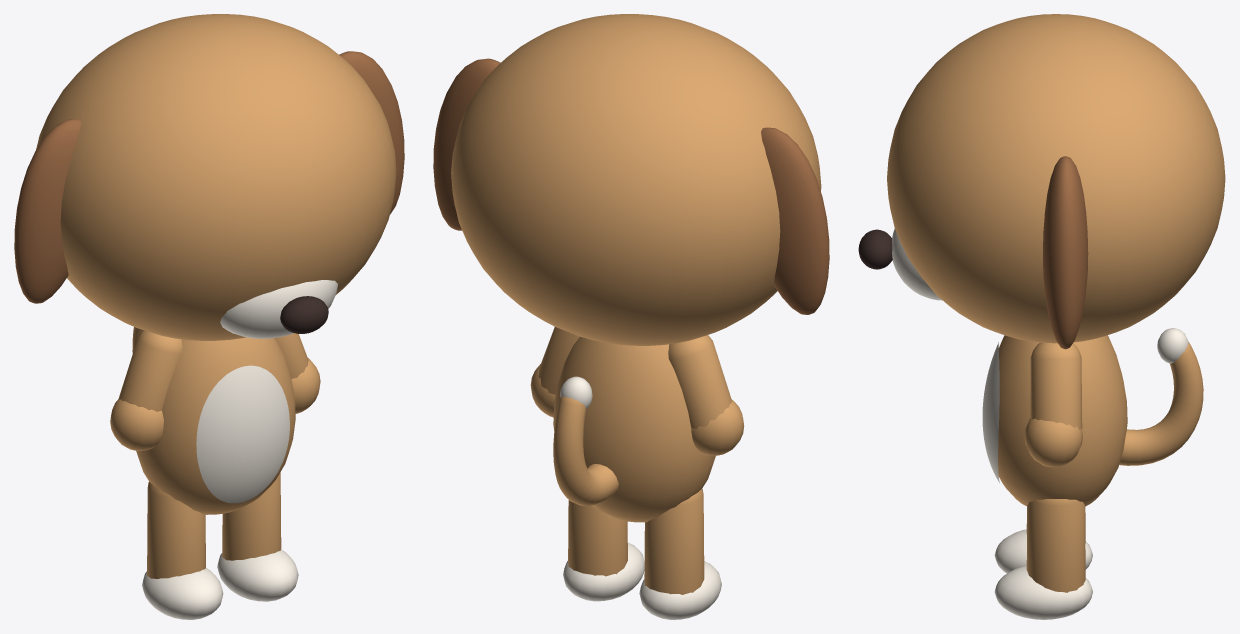
Rendered from animal-dog.glb.
3 renders of one model, left to right at view 1: azimuth 30°, elevation 25°; view 2: azimuth 150°, elevation 25°; view 3: azimuth 270°, elevation 25°, orthographic. The views are drawn at different scales.
Parts seen in each view (by area): view 1: head, torso, belly, ear_R, leg_R, leg_L, arm_R, muzzle, foot_L, foot_R, ear_L, hand_R (+3 smaller); view 2: head, torso, ear_R, leg_R, tail, ear_L, arm_R, leg_L, foot_R, foot_L, hand_R, arm_L (+2 smaller); view 3: head, torso, ear_L, leg_L, tail, arm_L, foot_L, hand_L, belly, foot_R, nose, muzzle (+1 smaller).
Part boxes in pixels (<box>): head: <box>36,14,396,340</box>; torso: <box>136,337,295,514</box>; belly: <box>196,365,289,503</box>; ear_R: <box>14,119,81,303</box>; leg_R: <box>147,481,205,578</box>; leg_L: <box>222,472,281,560</box>; arm_R: <box>118,330,182,411</box>; muzzle: <box>220,280,337,338</box>; foot_L: <box>217,549,298,601</box>; foot_R: <box>142,567,223,619</box>; ear_L: <box>339,51,404,214</box>; hand_R: <box>110,399,163,450</box>; head: <box>451,14,821,345</box>; torso: <box>553,336,715,522</box>; ear_R: <box>761,127,829,314</box>; leg_R: <box>644,489,704,594</box>; tail: <box>553,396,618,505</box>; ear_L: <box>433,58,500,230</box>; arm_R: <box>668,335,731,428</box>; leg_L: <box>568,500,627,576</box>; foot_R: <box>639,561,721,619</box>; foot_L: <box>563,542,644,601</box>; hand_R: <box>691,399,744,455</box>; arm_L: <box>538,327,579,394</box>; head: <box>887,14,1225,343</box>; torso: <box>998,335,1127,506</box>; ear_L: <box>1043,156,1088,349</box>; leg_L: <box>1026,499,1085,592</box>; tail: <box>1119,342,1203,465</box>; arm_L: <box>1030,342,1082,430</box>; foot_L: <box>994,566,1092,619</box>; hand_L: <box>1024,418,1082,467</box>; belly: <box>982,342,999,483</box>; foot_R: <box>994,529,1092,573</box>; nose: <box>858,229,892,269</box>; muzzle: <box>892,228,942,300</box>.
Size of the model in its own units: 0.5762 by 0.808 by 0.4769.
